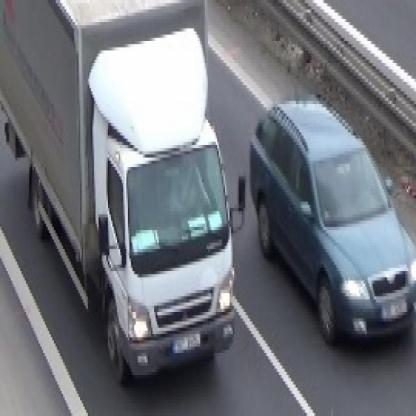truck: (3, 1, 250, 383)
